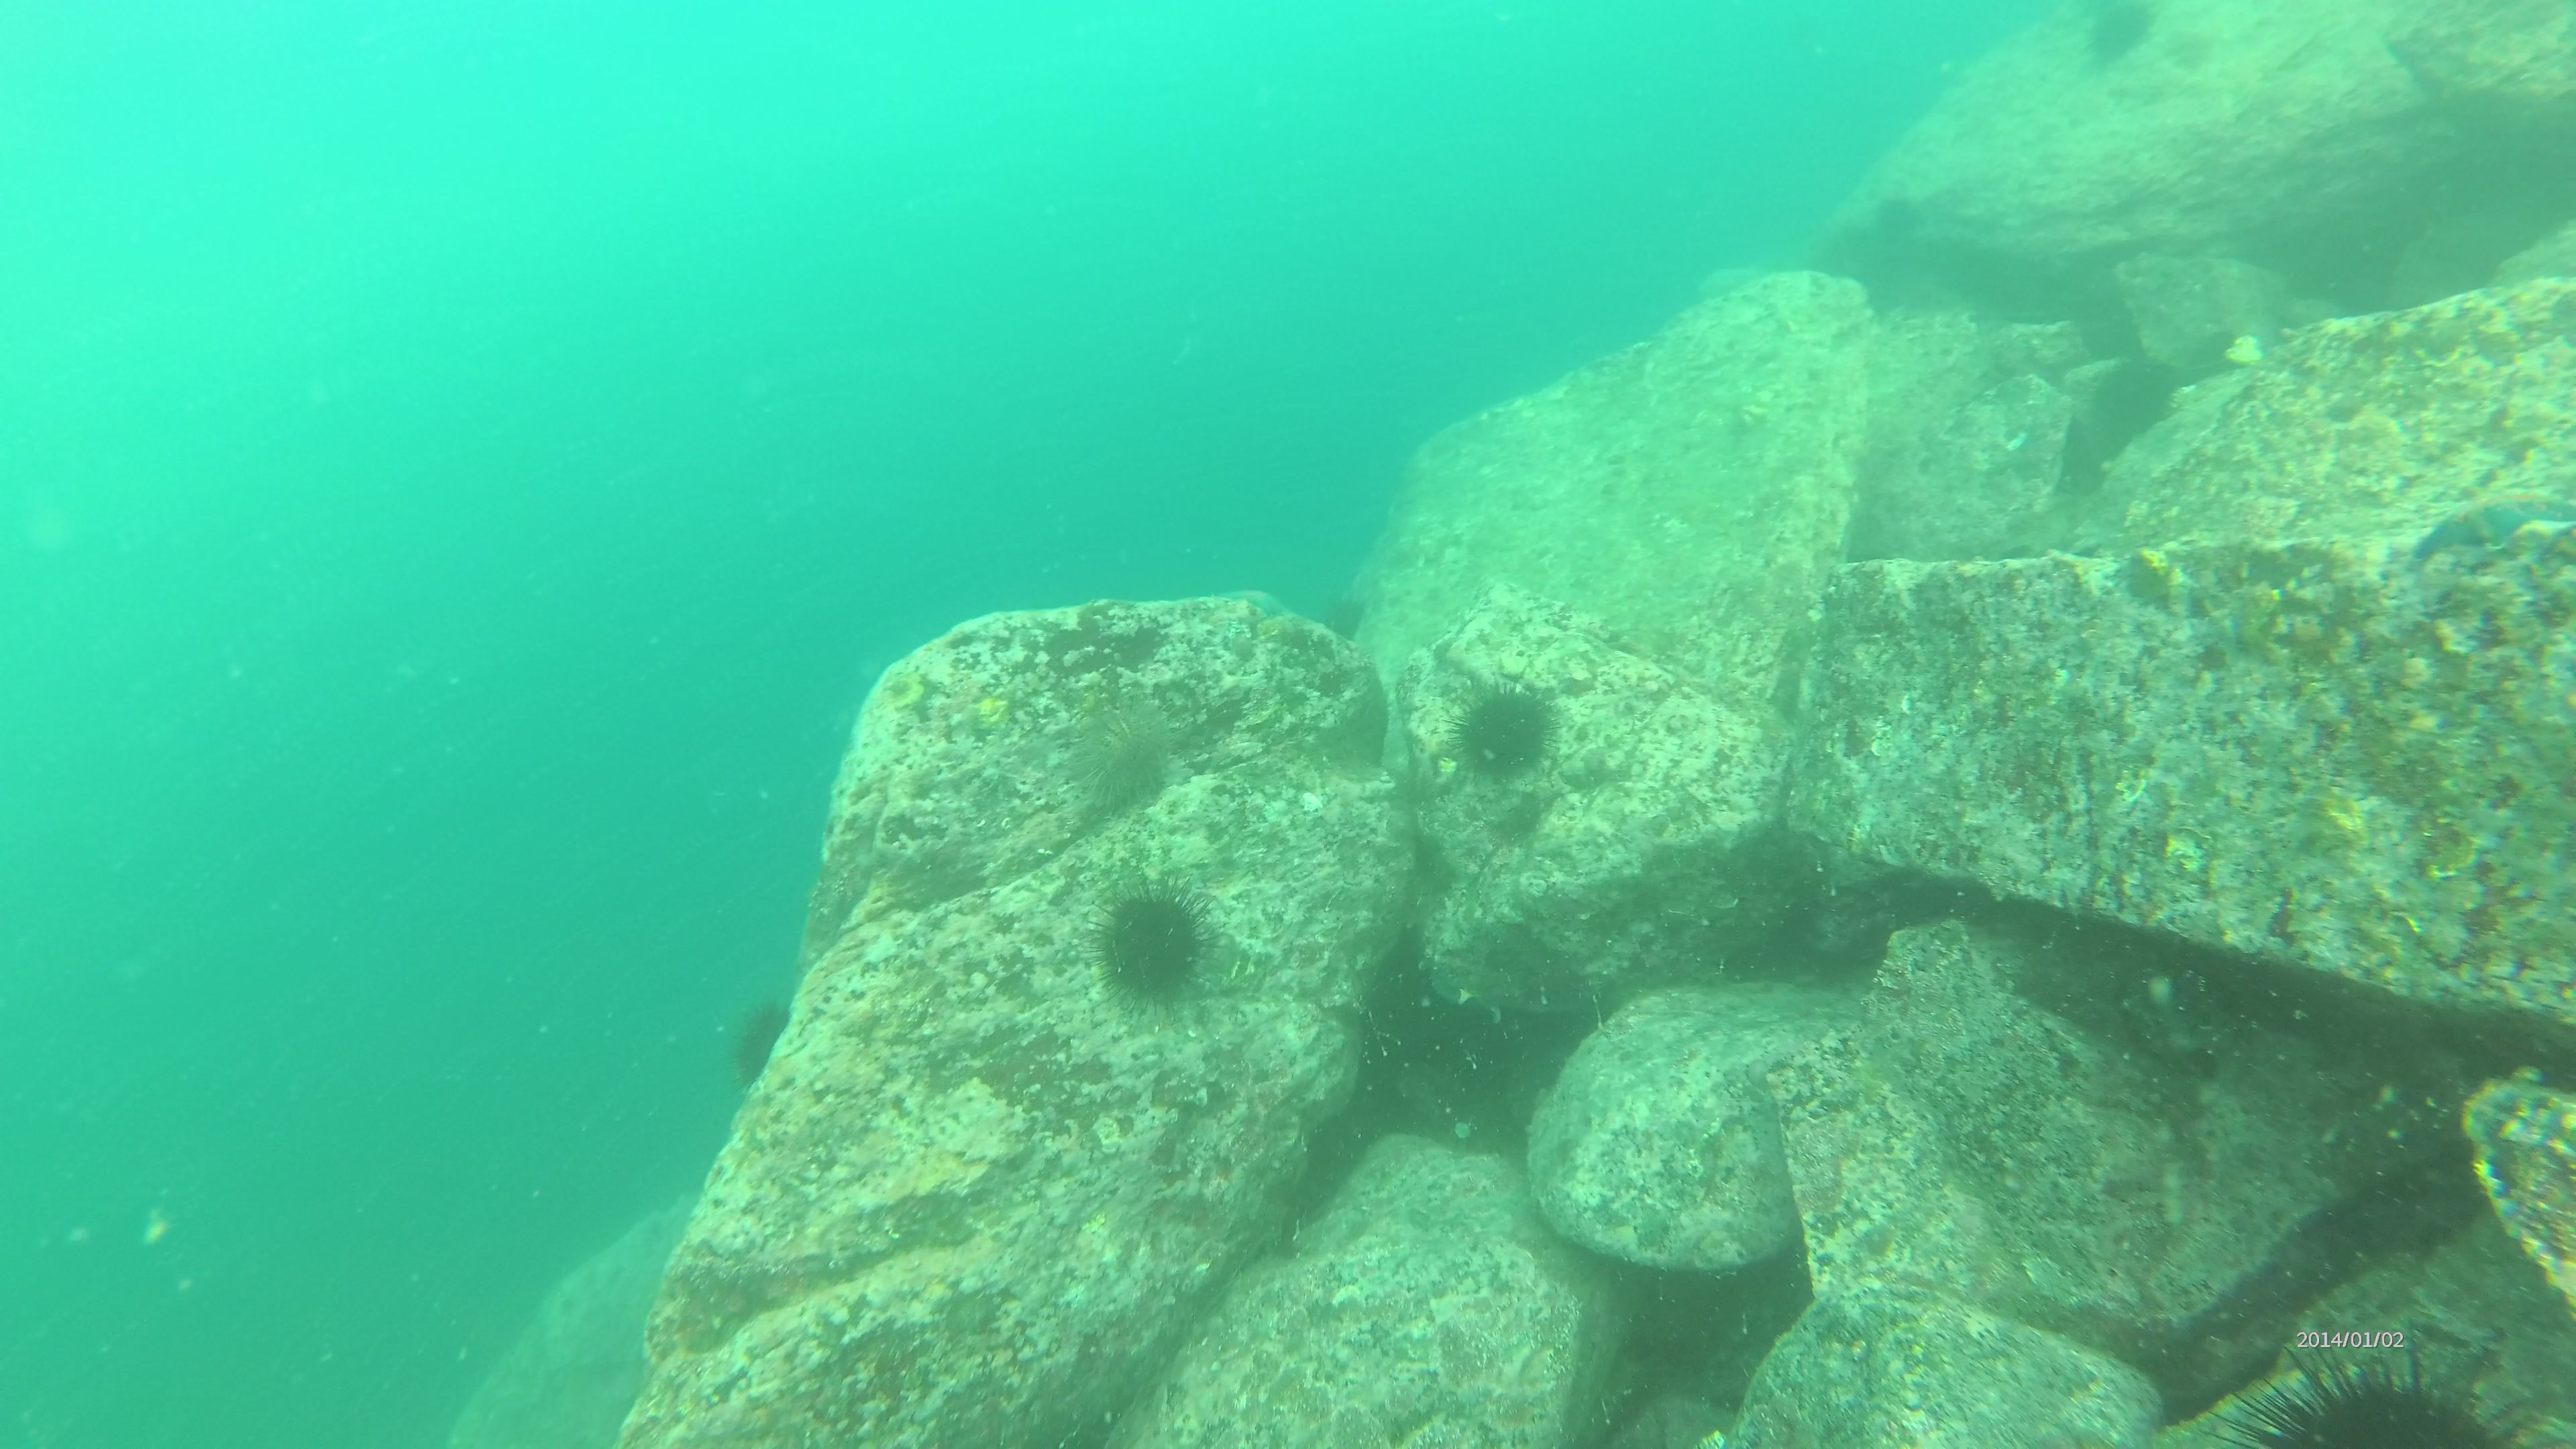echinus: (2233, 1330, 2549, 1449), (1081, 879, 1219, 1028), (1460, 671, 1566, 794), (725, 989, 809, 1097), (2077, 0, 2166, 69), (1315, 589, 1375, 665)
starfish: (2404, 487, 2576, 566)
